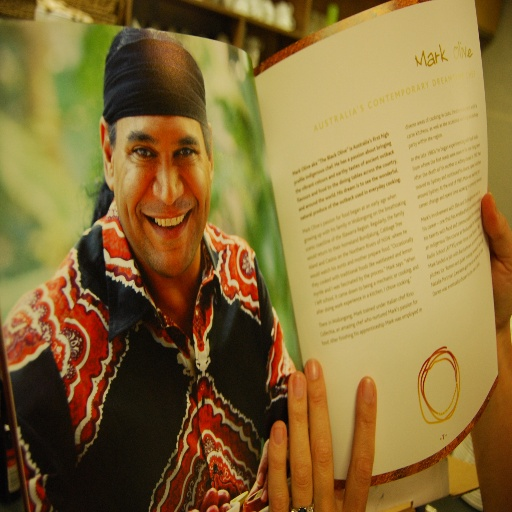hand: (266, 357, 375, 511), (478, 191, 511, 332), (256, 433, 291, 502)
